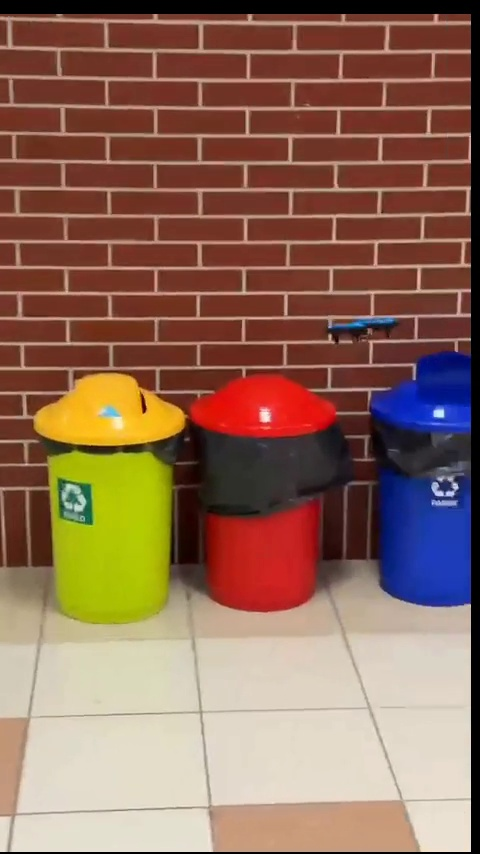drone: (325, 313, 404, 350)
